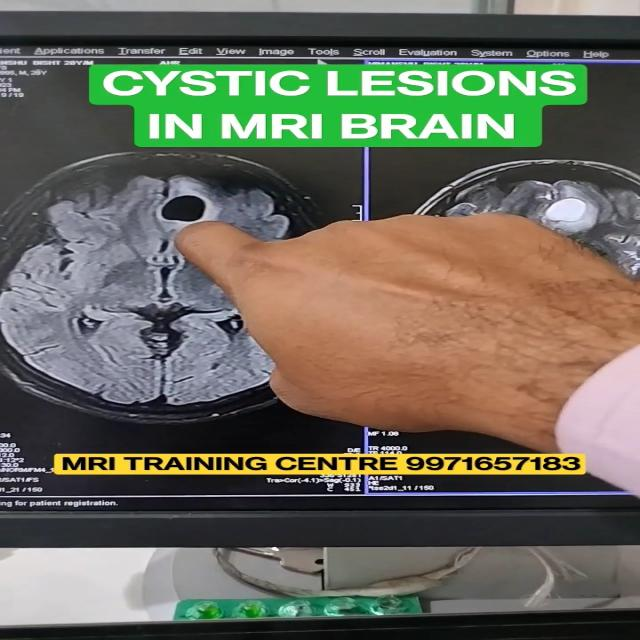tumor: (149, 170, 238, 232)
